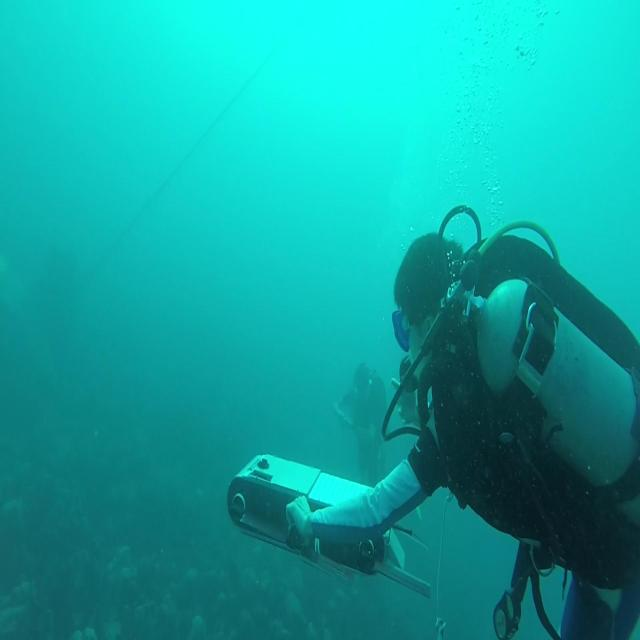human: (285, 215, 639, 638)
